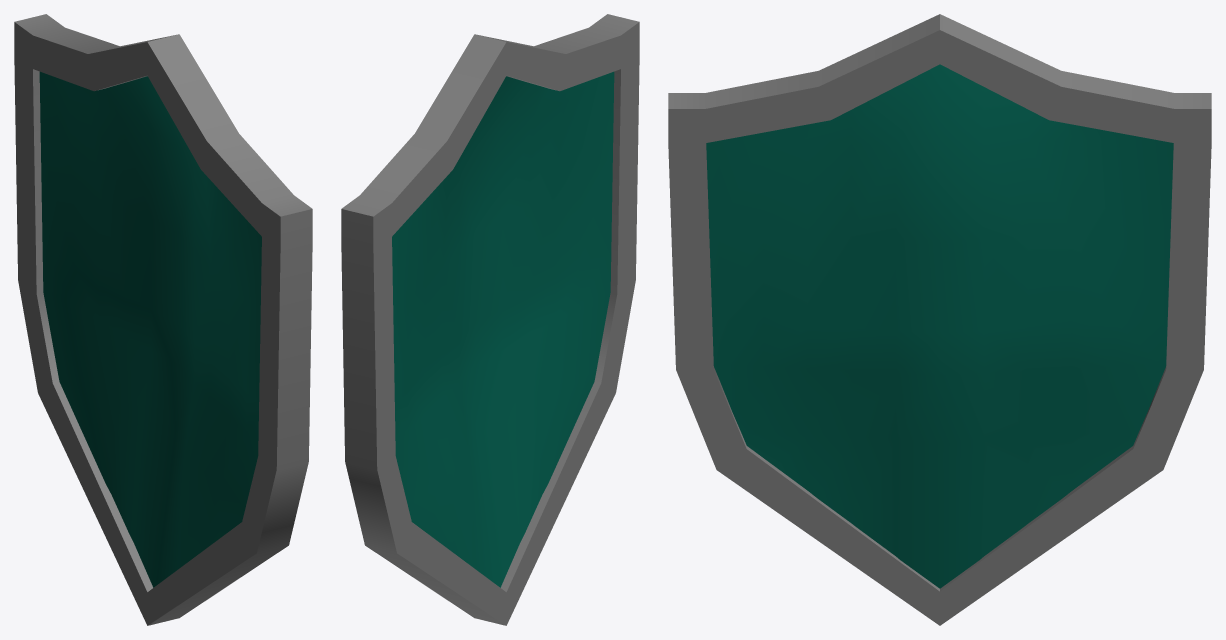
Rendered from Green_shield.fbx.
The picture shows the model from 3 angles, left to right: view 1: azimuth 30°, elevation 25°; view 2: azimuth 150°, elevation 25°; view 3: azimuth 270°, elevation 25°; orthographic projection. The views are drawn at different scales.
Visible parts, largest first — view 1: pCube2, pCube1; view 2: pCube2, pCube1; view 3: pCube2, pCube1.
Boxes of the visible parts, x1,y1,x2,y2 form: pCube2: (39, 71, 261, 587); pCube1: (14, 14, 312, 625); pCube2: (392, 71, 614, 587); pCube1: (341, 14, 639, 625); pCube2: (706, 64, 1173, 588); pCube1: (668, 14, 1211, 625).
Bounding box in the file's own units: 1.55 × 17.38 × 14.36.
